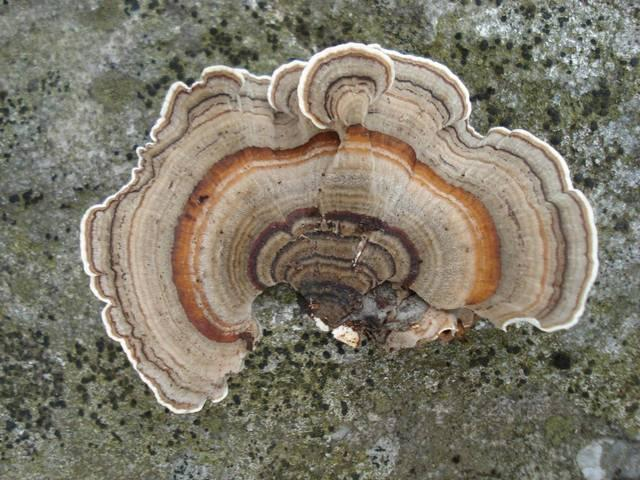poisonous_mushroom: (78, 41, 600, 415)
